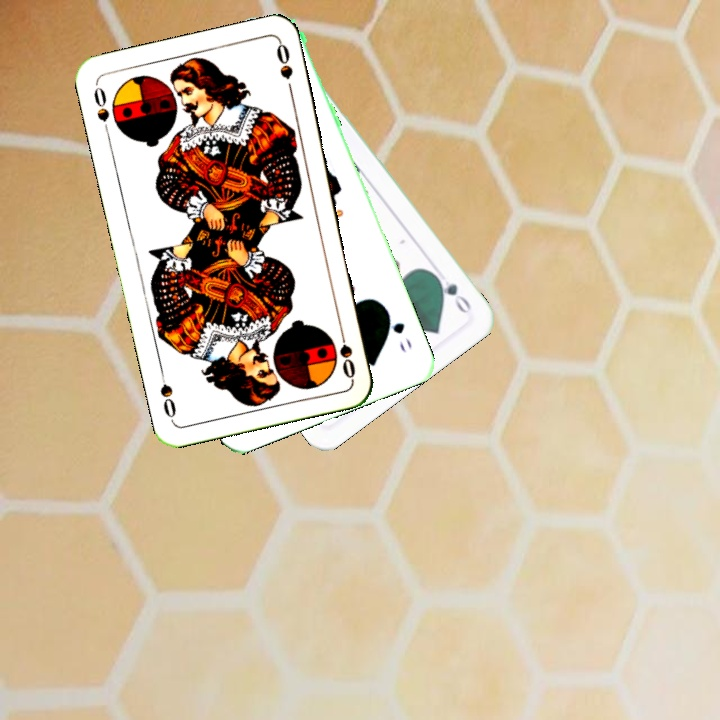GO: (429, 269, 474, 316), (381, 305, 415, 356)
SO: (89, 80, 113, 139), (335, 322, 358, 381)
